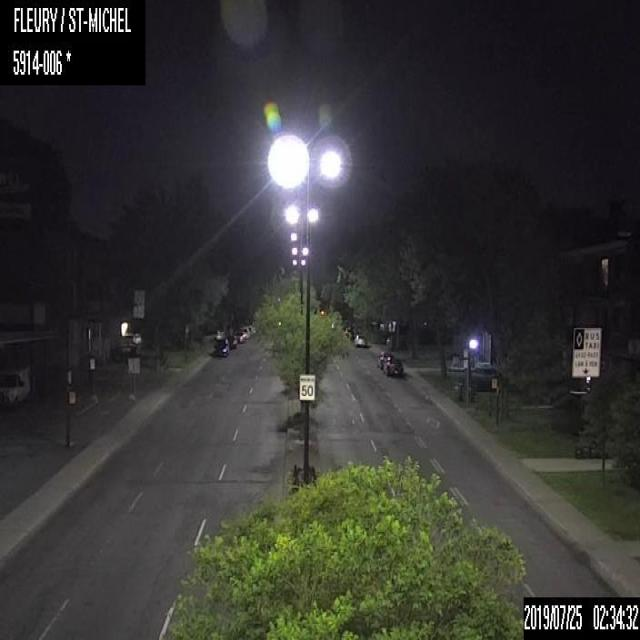vehicle: (0, 367, 32, 404), (212, 336, 230, 357), (384, 357, 402, 376), (376, 349, 391, 370), (353, 332, 370, 347), (233, 326, 246, 345), (225, 332, 237, 350)
